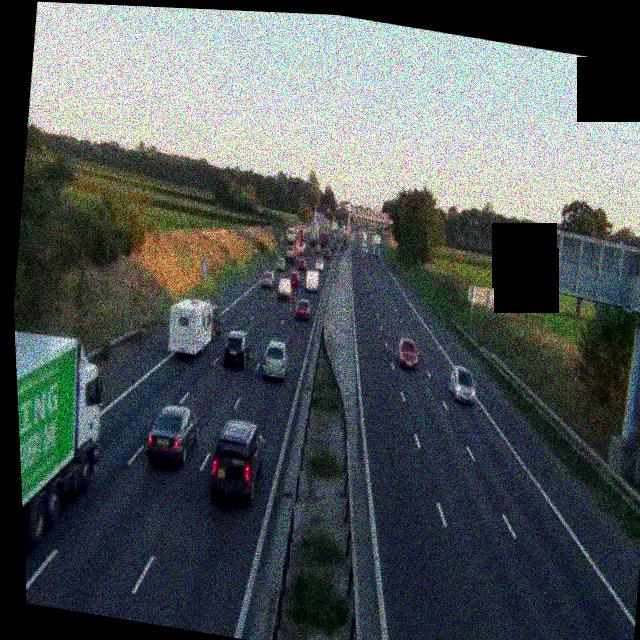car: (206, 415, 270, 506), (143, 400, 203, 471), (260, 337, 291, 382), (220, 327, 253, 369), (446, 363, 479, 404), (395, 334, 420, 369), (293, 297, 313, 322), (276, 278, 294, 301), (260, 270, 274, 289), (294, 254, 307, 272), (273, 256, 285, 272), (313, 257, 325, 272)
truck: (15, 329, 119, 602), (163, 294, 221, 361), (303, 266, 319, 292), (371, 231, 384, 258)
